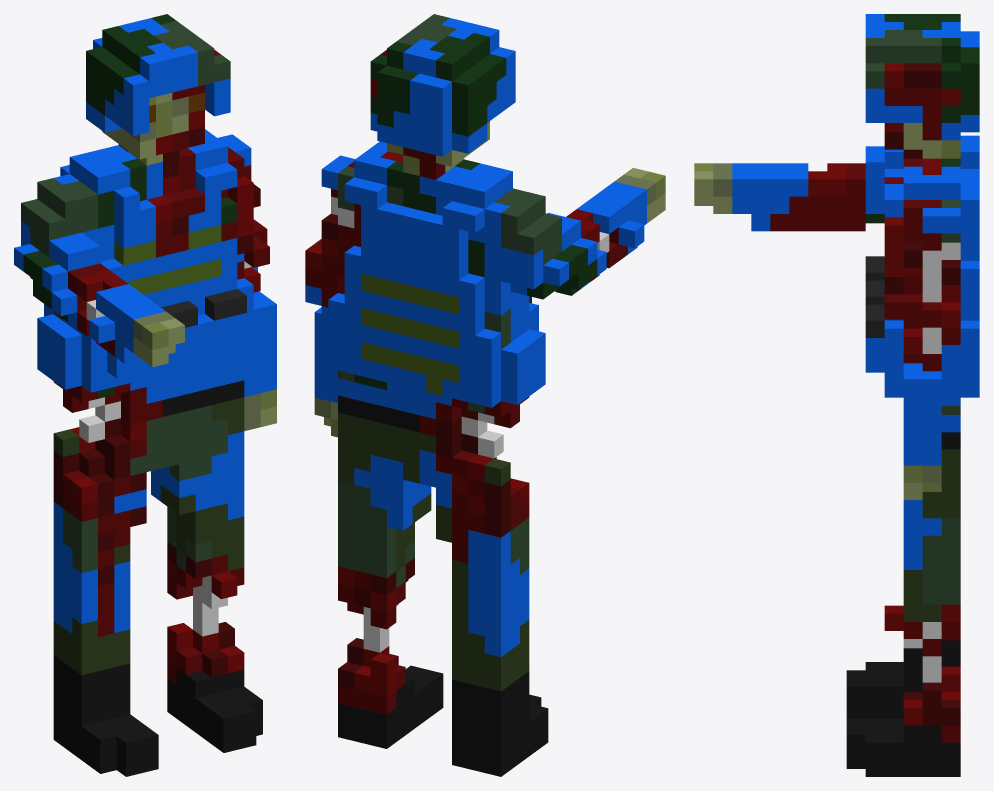
File: zombie_explosive.vox.obj
The picture shows the model from 3 angles, left to right: view 1: azimuth 30°, elevation 25°; view 2: azimuth 150°, elevation 25°; view 3: azimuth 270°, elevation 25°; orthographic projection.
Size of the model in its own units: 1.5 by 4.1 by 1.5.
Materials: 1 (1 with a texture image).
